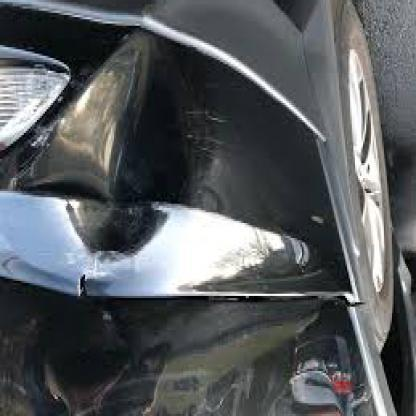dent: (61, 32, 177, 268)
